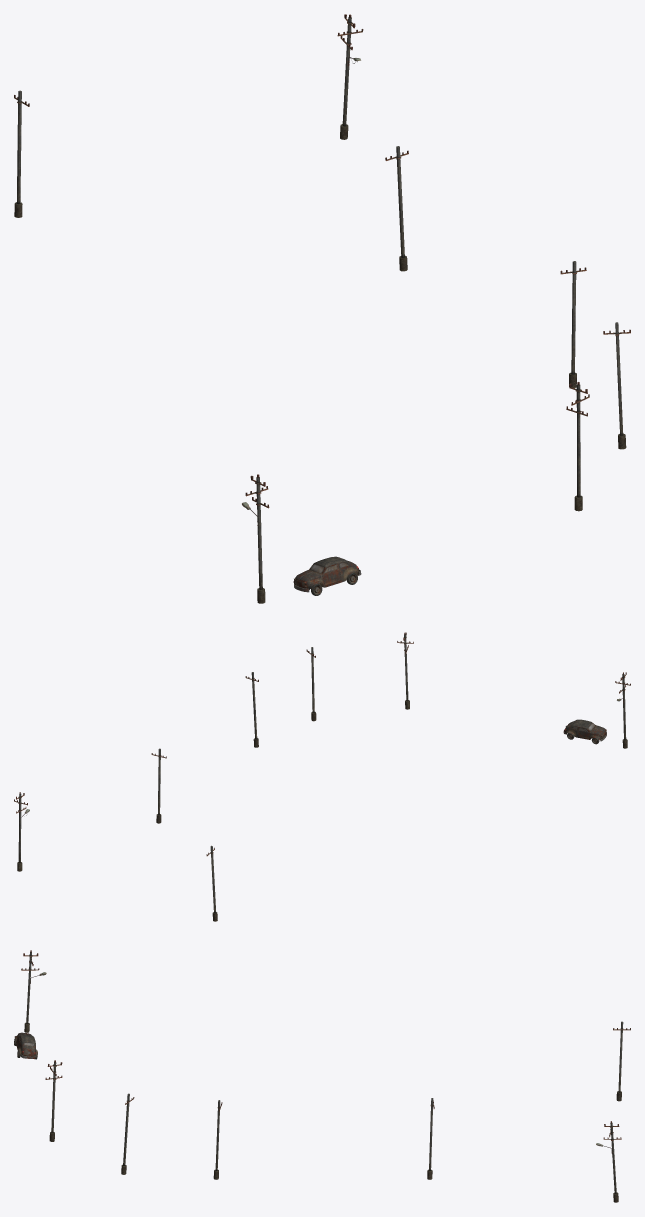
3 renders of one model, top to bottom at view 1: azimuth 30°, elevation 25°; view 2: azimuth 150°, elevation 25°; view 3: azimuth 270°, elevation 25°, orthographic. The views are drawn at different scales.
Parts seen in each view (by area): view 1: GP_LOD1; view 2: GP_LOD1; view 3: GP_LOD1.
Boxes of the visible parts, x1=… form: GP_LOD1: x1=14, y1=14, x2=630, y2=603; GP_LOD1: x1=14, y1=632, x2=630, y2=921; GP_LOD1: x1=14, y1=950, x2=630, y2=1202.
Size of the model in its own units: 4116 by 923 by 6022.
1 material, 1 textured.
